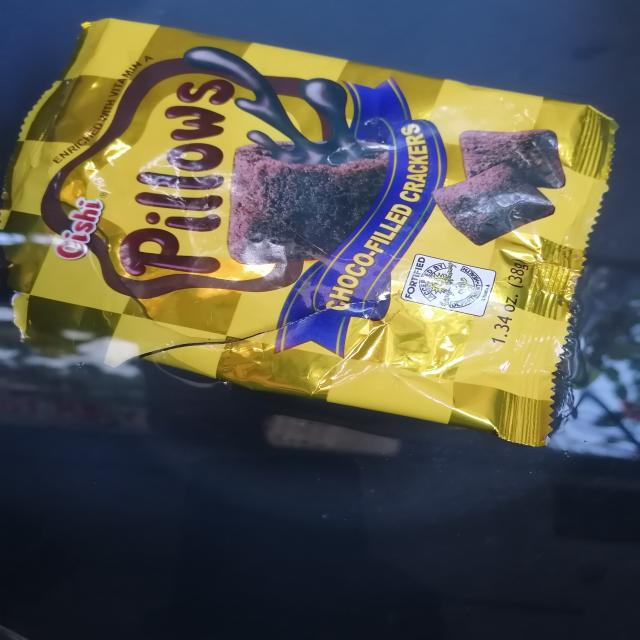Plastic Wrapper: (0, 0, 640, 466)
